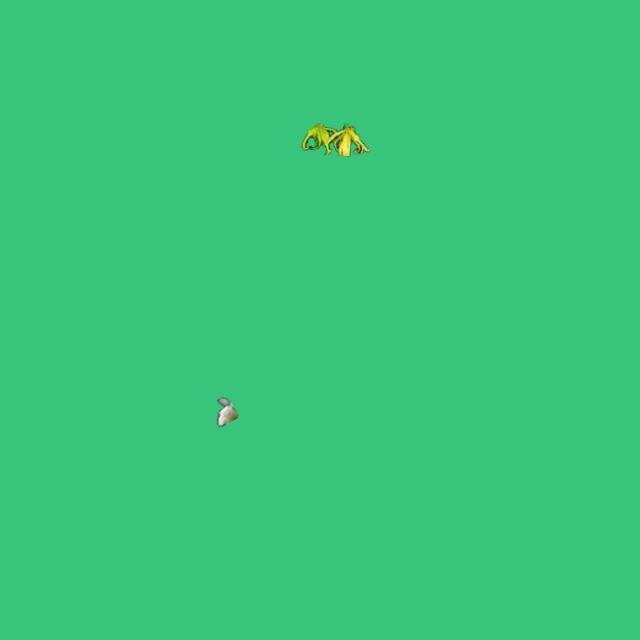jasmine: (217, 397, 237, 426)
ylang-ylang: (302, 123, 369, 155)
